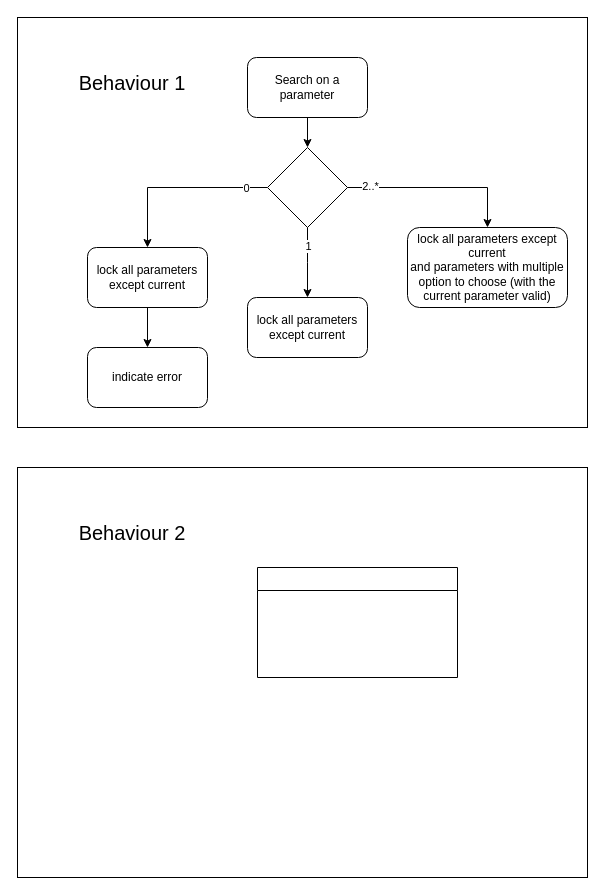
This 605x895 diagram has some shape labels left out. The shapes that lost their labels are listed below. From the top down, each one's centre as x and y in pixels, then its label:
At point (307, 187): "Product Found?".
At point (357, 622): "Stack selected params".
